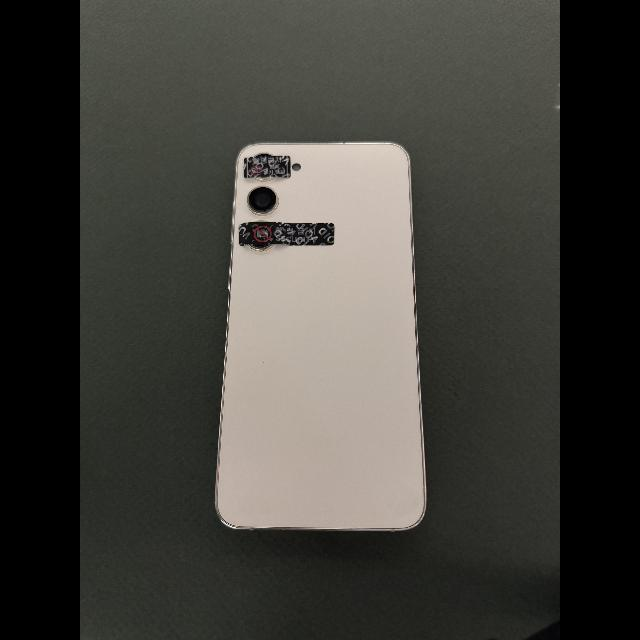lens: (247, 187, 278, 215), (250, 245, 274, 251), (254, 178, 276, 182)
phone: (216, 142, 426, 531)
sticker: (238, 221, 335, 246), (243, 156, 291, 179)
